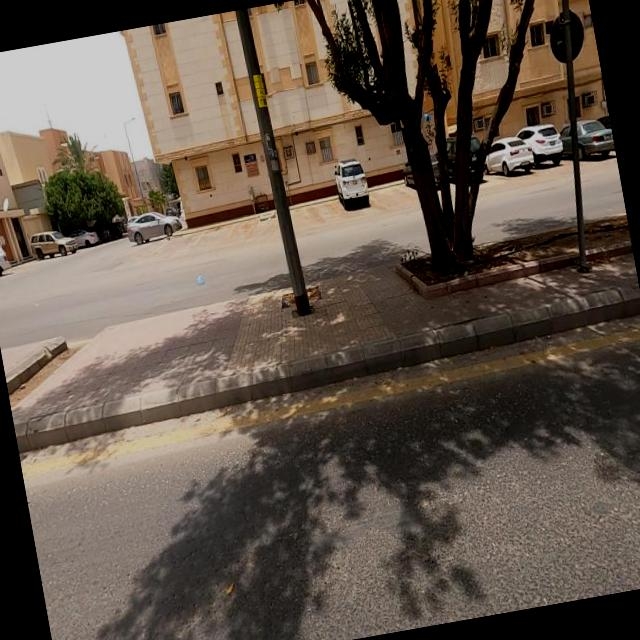debris: (178, 257, 227, 299)
